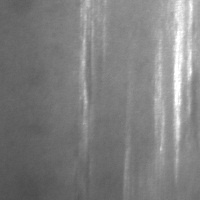scratches: (172, 1, 195, 170), (148, 37, 168, 156), (76, 4, 92, 138)
